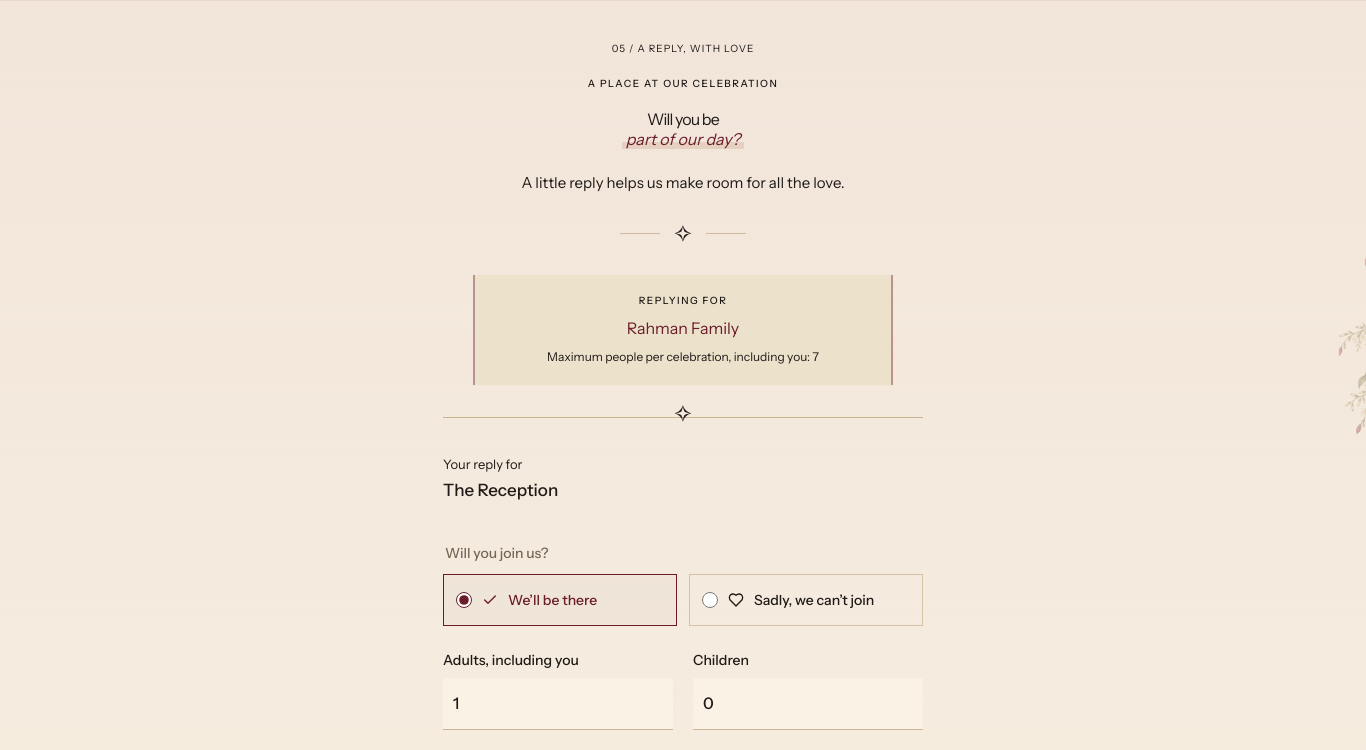
Scenario: Shared invitation response with a real server transport › shows a receipt only after server acknowledgement and uses the event allowance
This screenshot has width=1366, height=750.
Replace the text in the field labelled "Adults, including you" with "৩" at x=558, y=704, box [443,678,673,730]
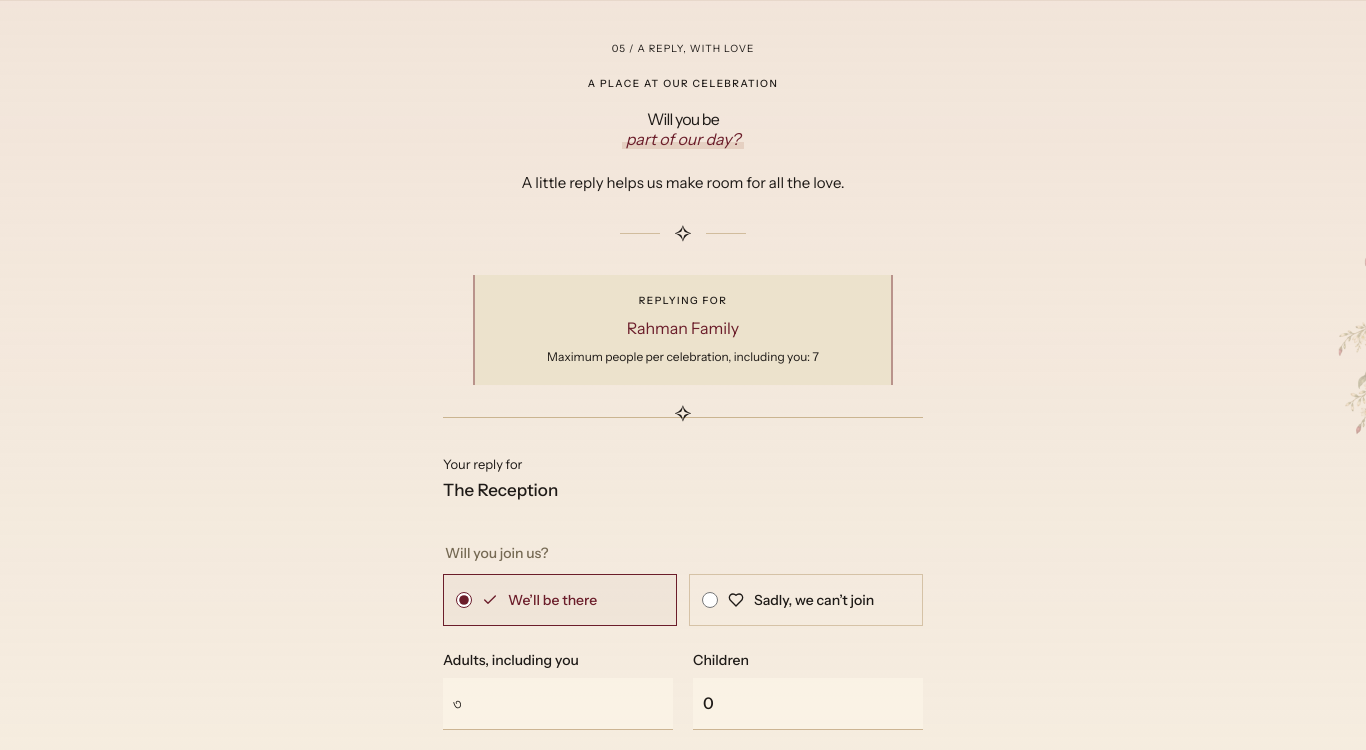
Replace the text in the field labelled "Children" with "1" at x=808, y=704, box [693,678,923,730]
(page scrolled)
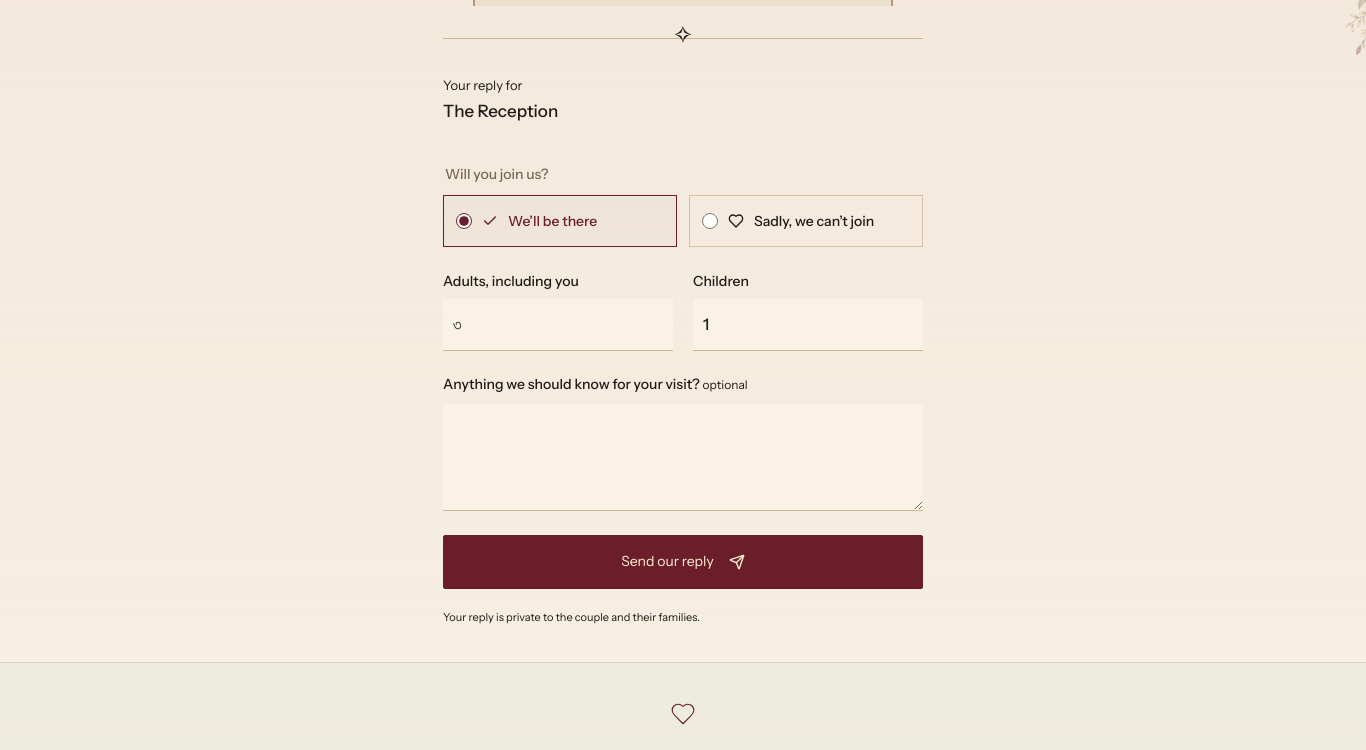
Submit the form named "Send our reply", box [443,165,923,628]
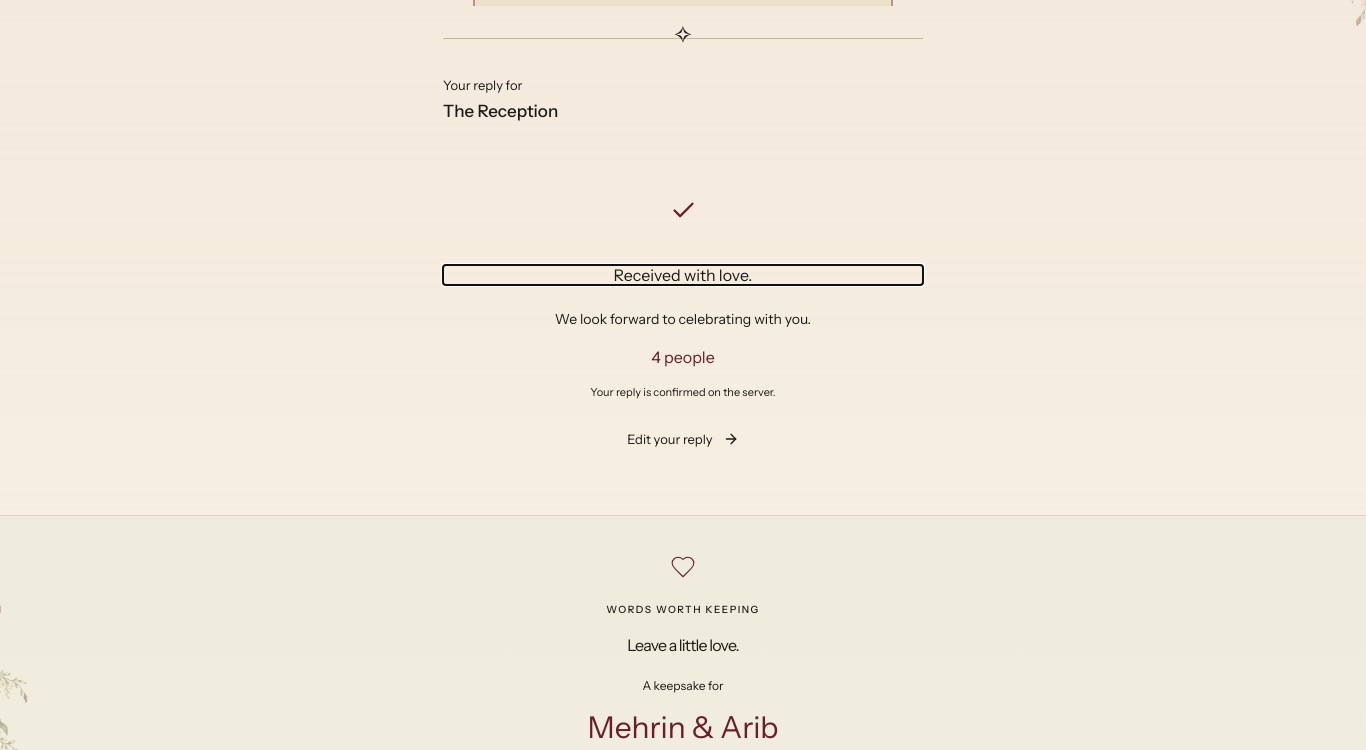
Expected: the text "Your reply is confirmed on the server." is shown, [590,385,776,399]
